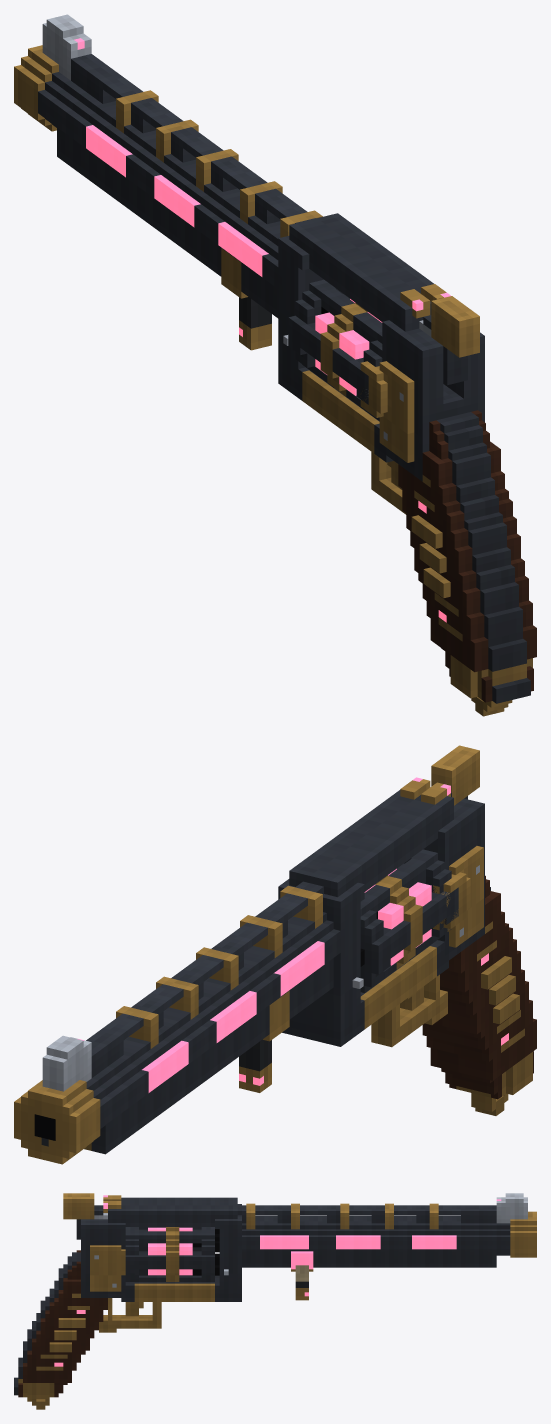
Rendered from viewmodel_right_revolver.glb.
3 views of the same model, one above another, from view 1: azimuth 30°, elevation 25°; view 2: azimuth 150°, elevation 25°; view 3: azimuth 270°, elevation 25° (orthographic). The views are drawn at different scales.
Visible parts, largest first — view 1: RevolverFrame, Cylinder, Hammer, SideGearWheel; view 2: RevolverFrame, Cylinder, Hammer, SideGearWheel; view 3: RevolverFrame, Cylinder, Hammer.
Part boxes in pixels (x1=…): RevolverFrame: x1=14, y1=14, x2=536, y2=716; Cylinder: x1=288, y1=279, x2=382, y2=420; Hammer: x1=419, y1=296, x2=479, y2=384; SideGearWheel: x1=360, y1=361, x2=391, y2=418; RevolverFrame: x1=14, y1=777, x2=536, y2=1164; Cylinder: x1=360, y1=849, x2=458, y2=992; Hammer: x1=431, y1=745, x2=479, y2=805; SideGearWheel: x1=433, y1=869, x2=470, y2=931; RevolverFrame: x1=14, y1=1193, x2=536, y2=1409; Cylinder: x1=125, y1=1227, x2=219, y2=1281; Hammer: x1=63, y1=1193, x2=107, y2=1239.
Bounding box in the file's own units: 0.0455 × 0.182 × 0.4095.
